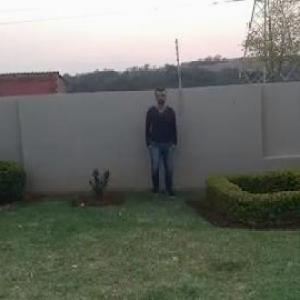follow: (143, 82, 179, 201)
